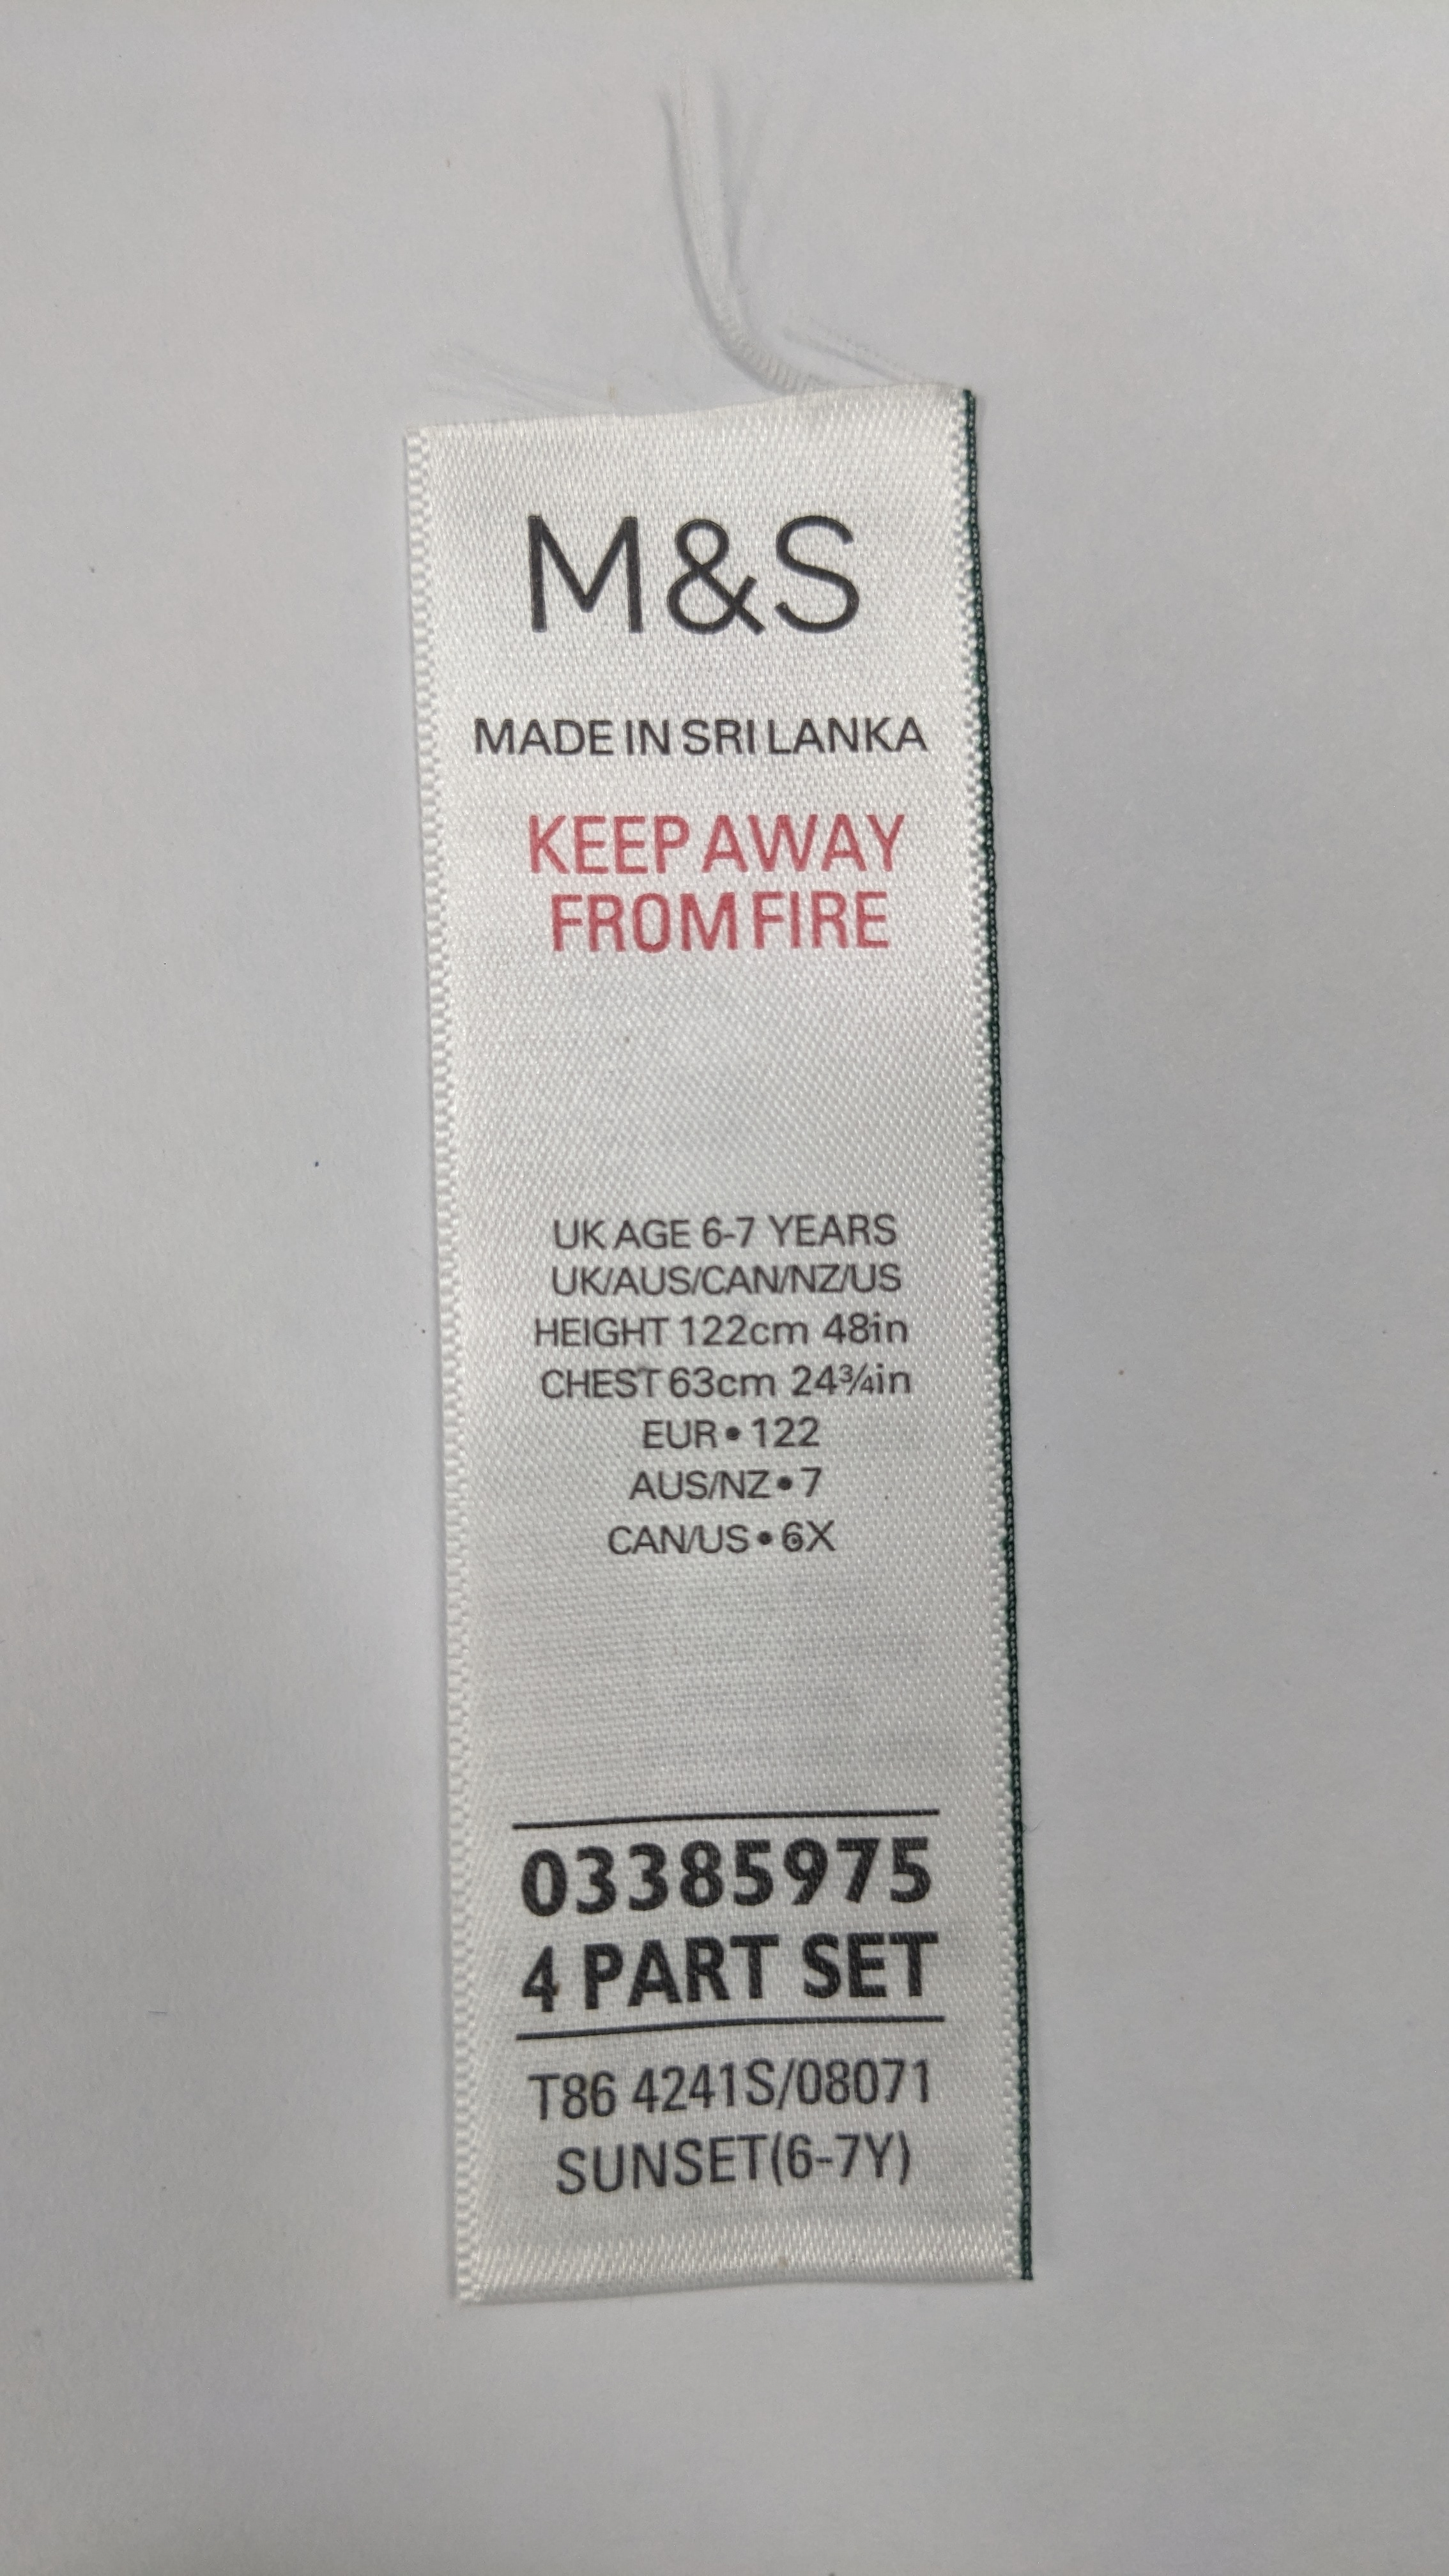Damaged_label: (380, 62, 1033, 2316)
